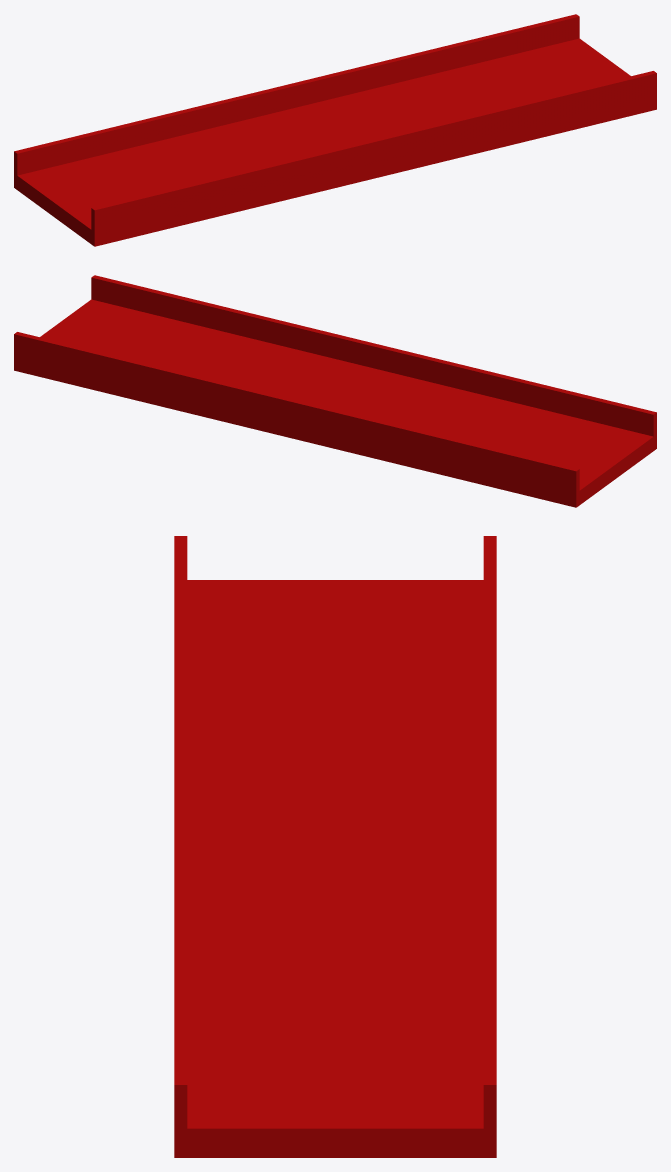
Rendered from Floating_Dock_Shape1.glb.
3 renders of one model, top to bottom at view 1: azimuth 30°, elevation 25°; view 2: azimuth 150°, elevation 25°; view 3: azimuth 270°, elevation 25°, orthographic. The views are drawn at different scales.
Parts seen in each view (by area): view 1: 3D Solid (×3); view 2: 3D Solid (×3); view 3: 3D Solid (×3).
Boxes of the visible parts, x1,y1,x2,y2 form: 3D Solid (×3): (14, 14, 656, 246); 3D Solid (×3): (14, 275, 656, 507); 3D Solid (×3): (174, 536, 496, 1157).
Size of the model in its own units: 404 by 25 by 100.
